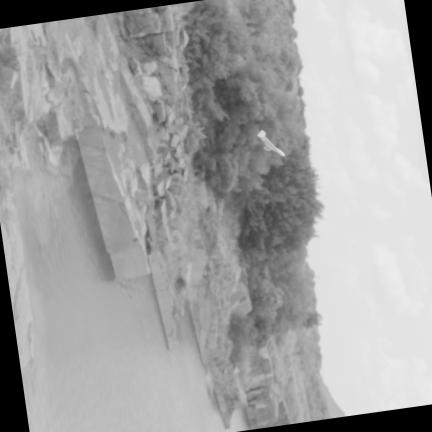Shahed: (257, 130, 284, 155)
